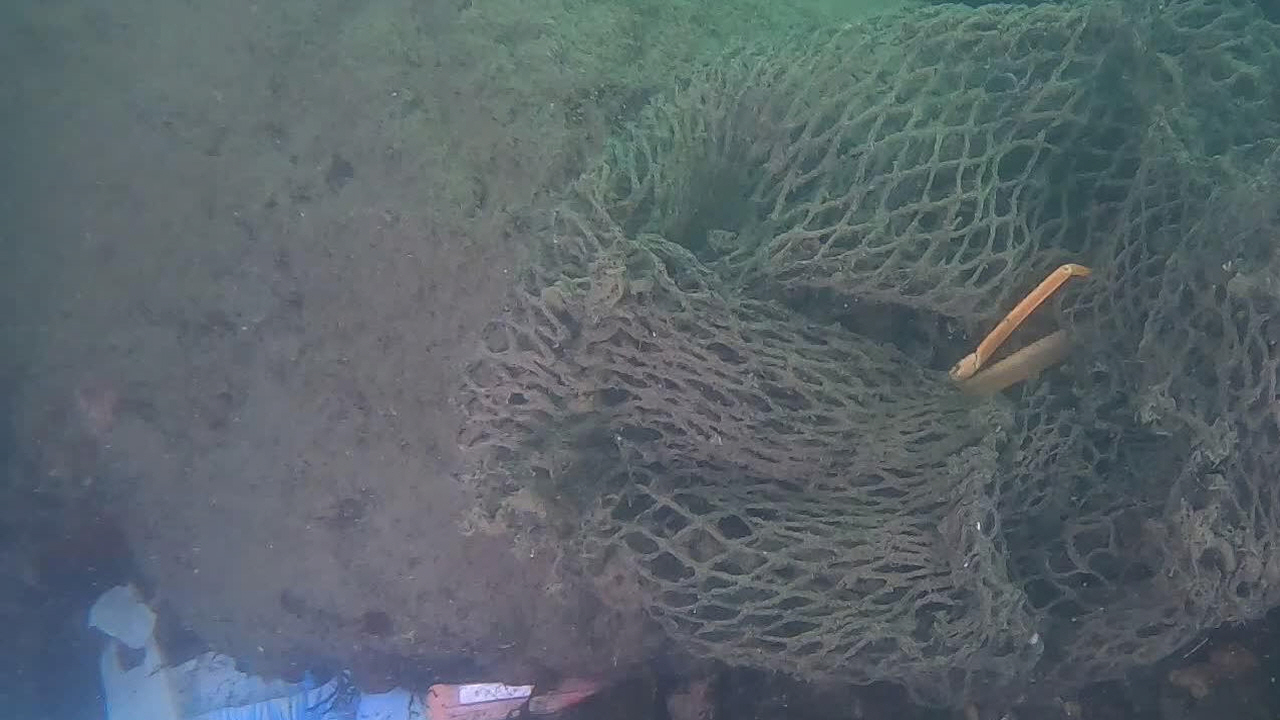fish net: (463, 0, 1280, 684)
